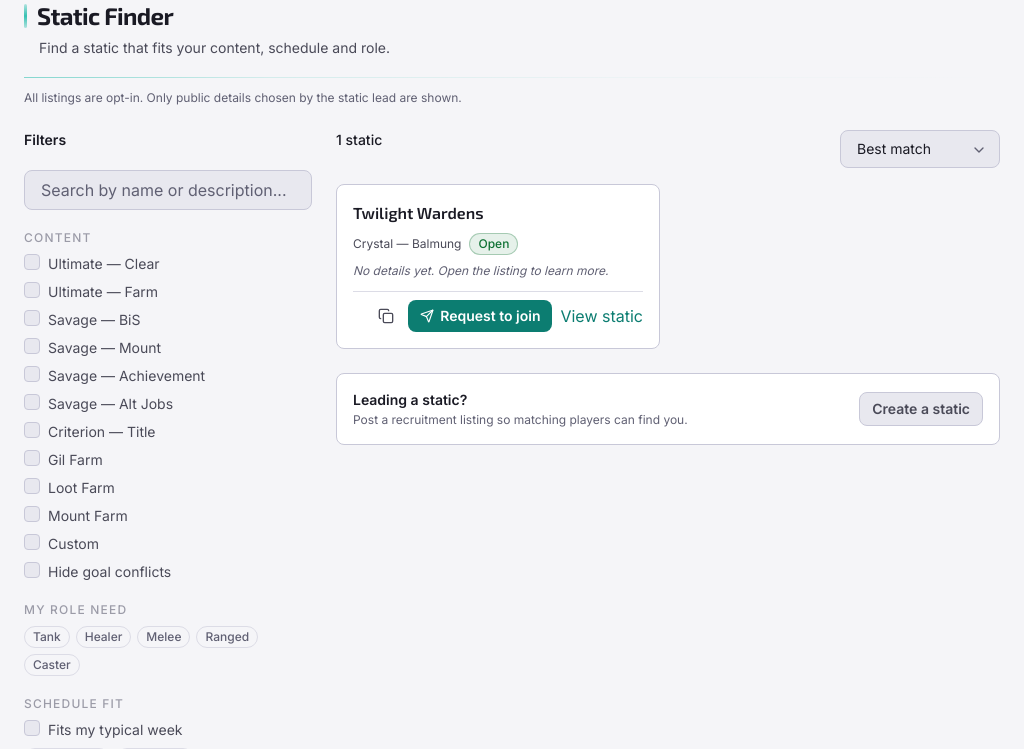
Test case: StaticFinder › clicking Request to join on a card opens the shared JoinRequestModal with that item
This screenshot has width=1024, height=749.
Click the button "Request to join".
click(480, 316)  # box x1=408 y1=300 x2=552 y2=332
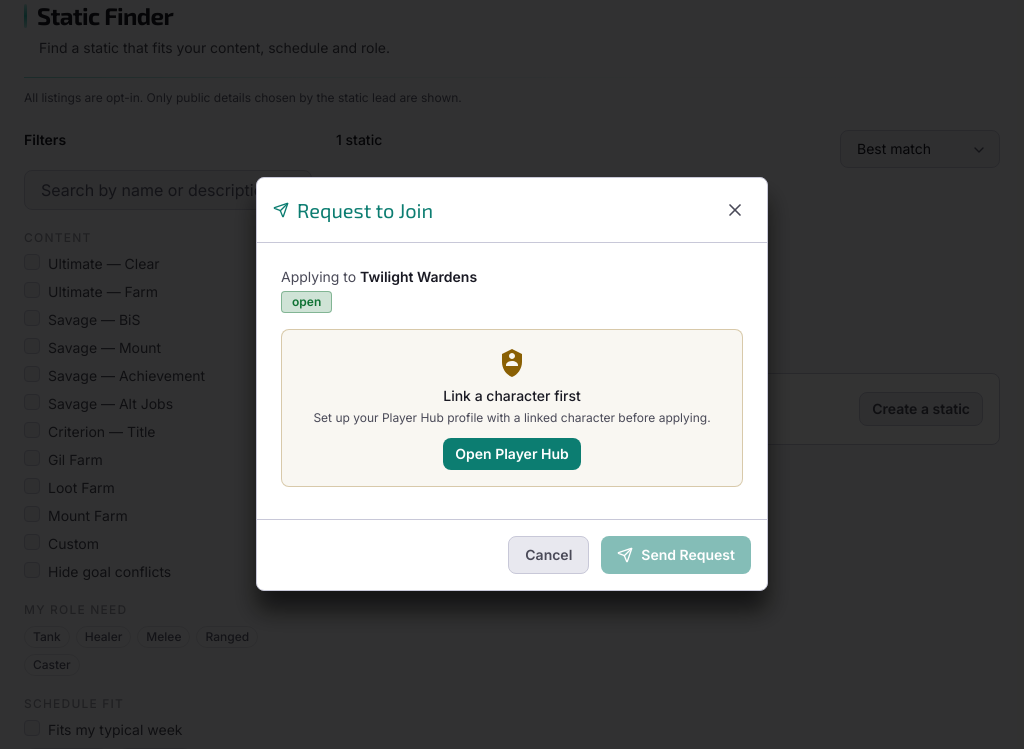
Expected: the text "Twilight Wardens" is shown, x1=360 y1=268 x2=477 y2=285
